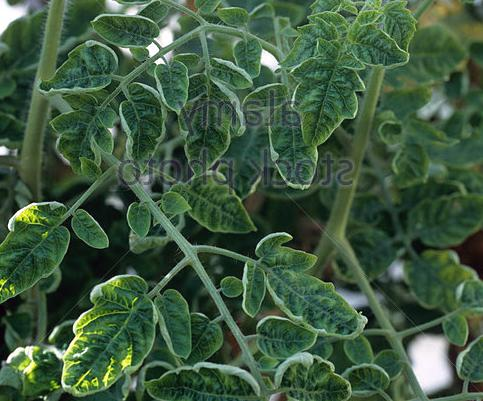Tomato leaf yellow virus: (30, 270, 160, 401), (228, 231, 365, 346), (283, 22, 363, 162), (0, 184, 74, 323), (175, 68, 248, 190), (255, 351, 398, 401), (262, 95, 320, 202), (17, 41, 123, 99), (111, 81, 171, 180), (175, 168, 260, 234), (138, 287, 207, 364), (340, 22, 408, 78), (138, 55, 196, 115), (79, 9, 153, 49)
